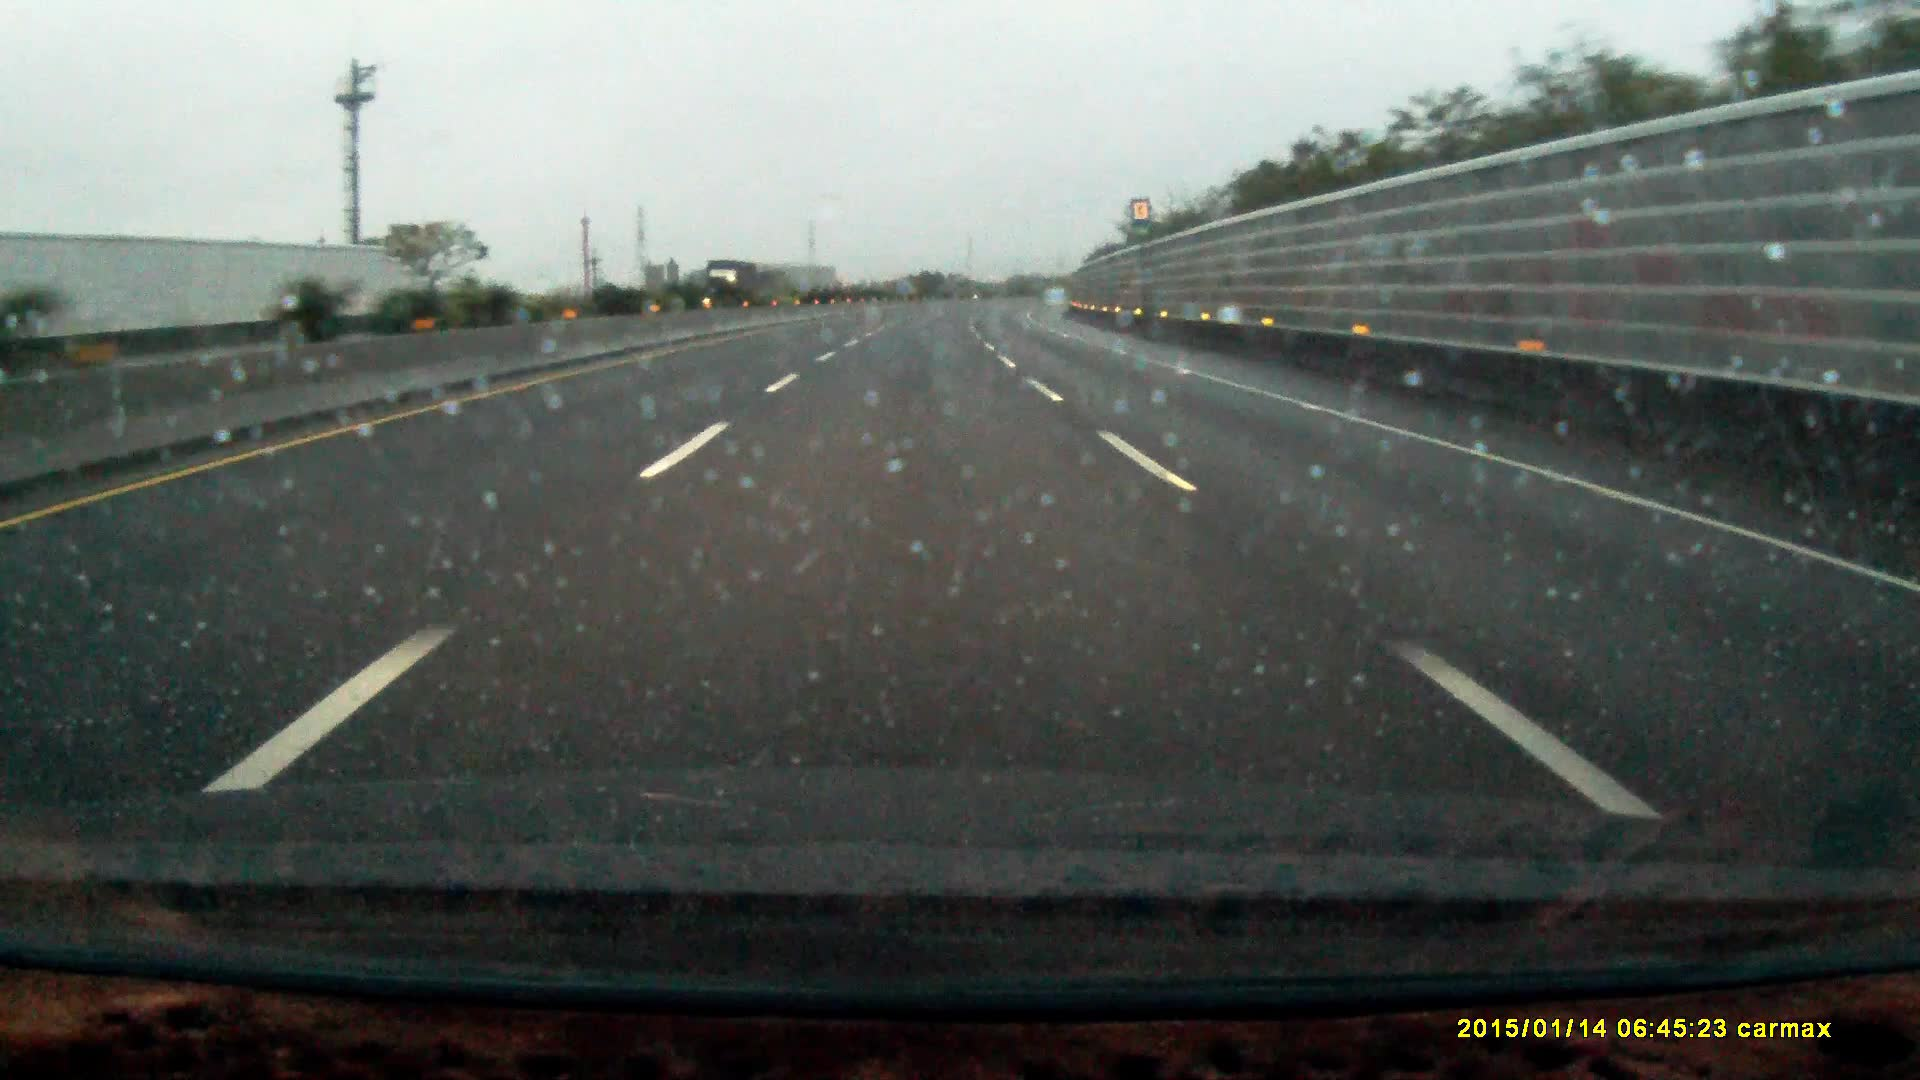vehicle: (705, 260, 757, 301)
